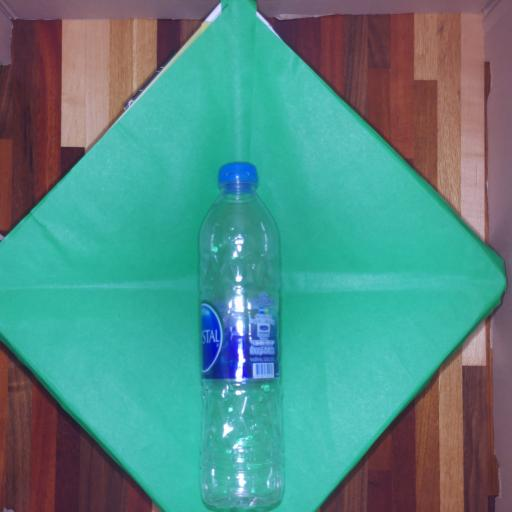bottle: (179, 151, 291, 512)
